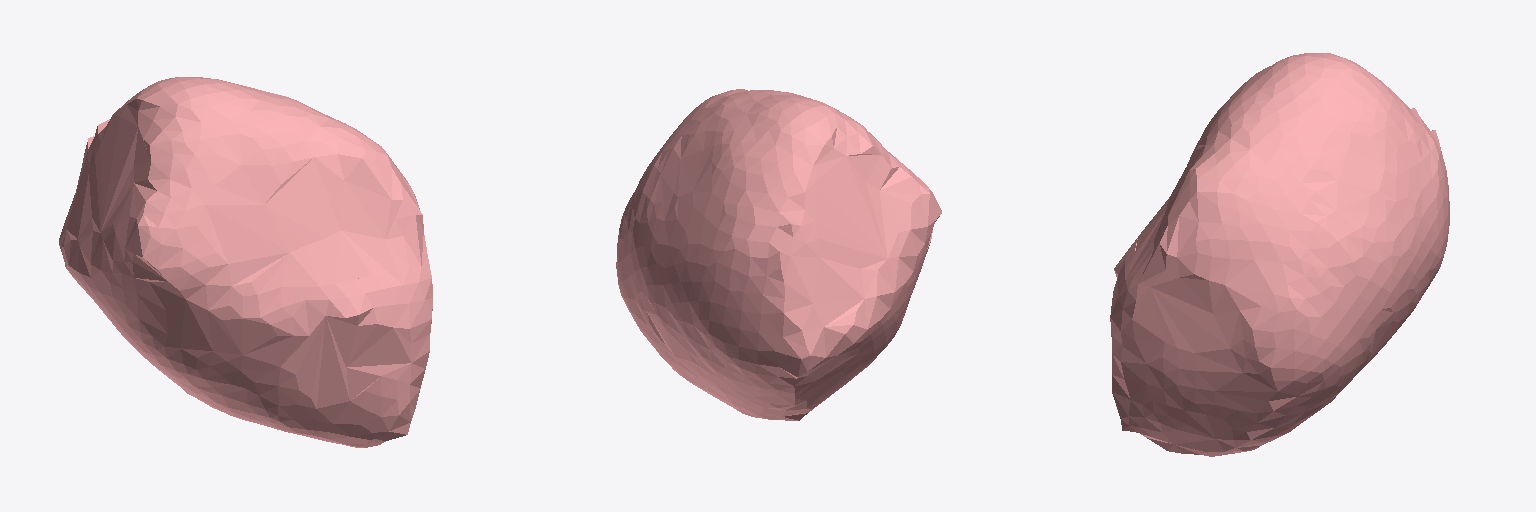
Rendered from Model_10406_LH__Central_nucleus_of_the_inferior_colliculus_(CIC).obj.
3 views of the same model, side by side, from view 1: azimuth 30°, elevation 25°; view 2: azimuth 150°, elevation 25°; view 3: azimuth 270°, elevation 25° (orthographic).
Bounding box in the file's own units: 1.51 × 1.7 × 1.52.